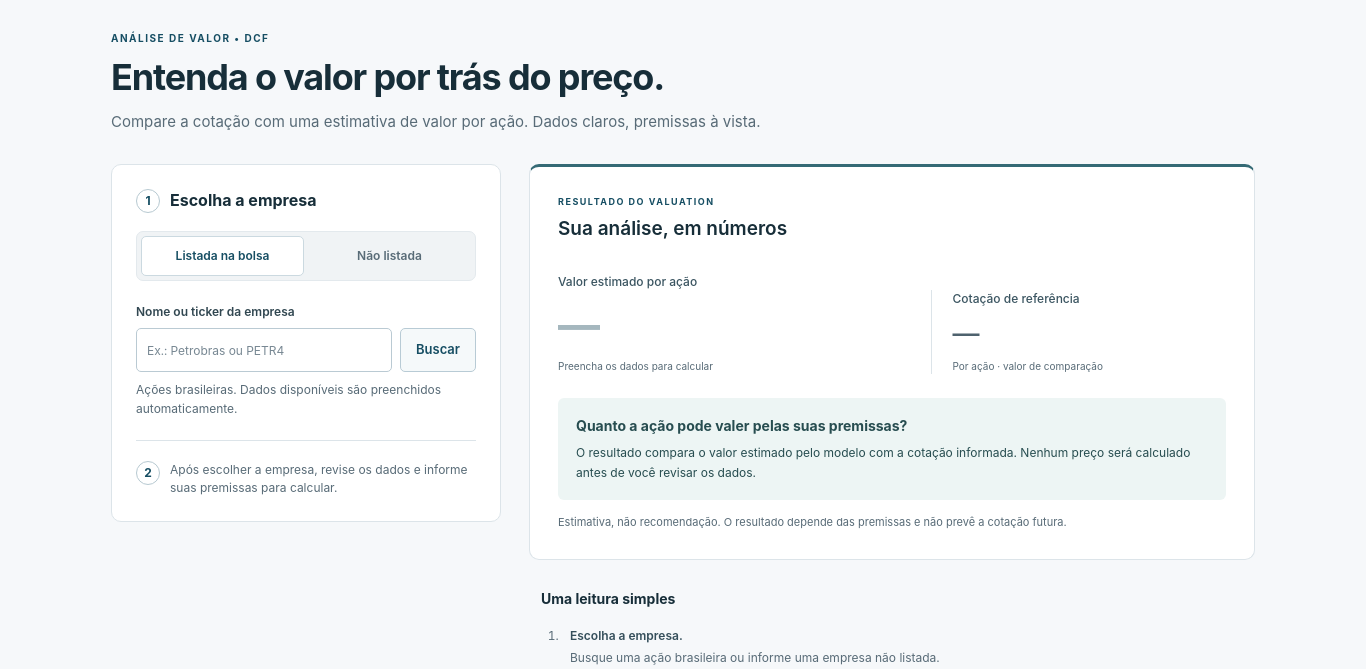
fluxos da interface › impede cálculo incompleto sem enviar dados para API
Click the button "Não listada": [390, 256] box [308, 236, 471, 276]
(page scrolled)
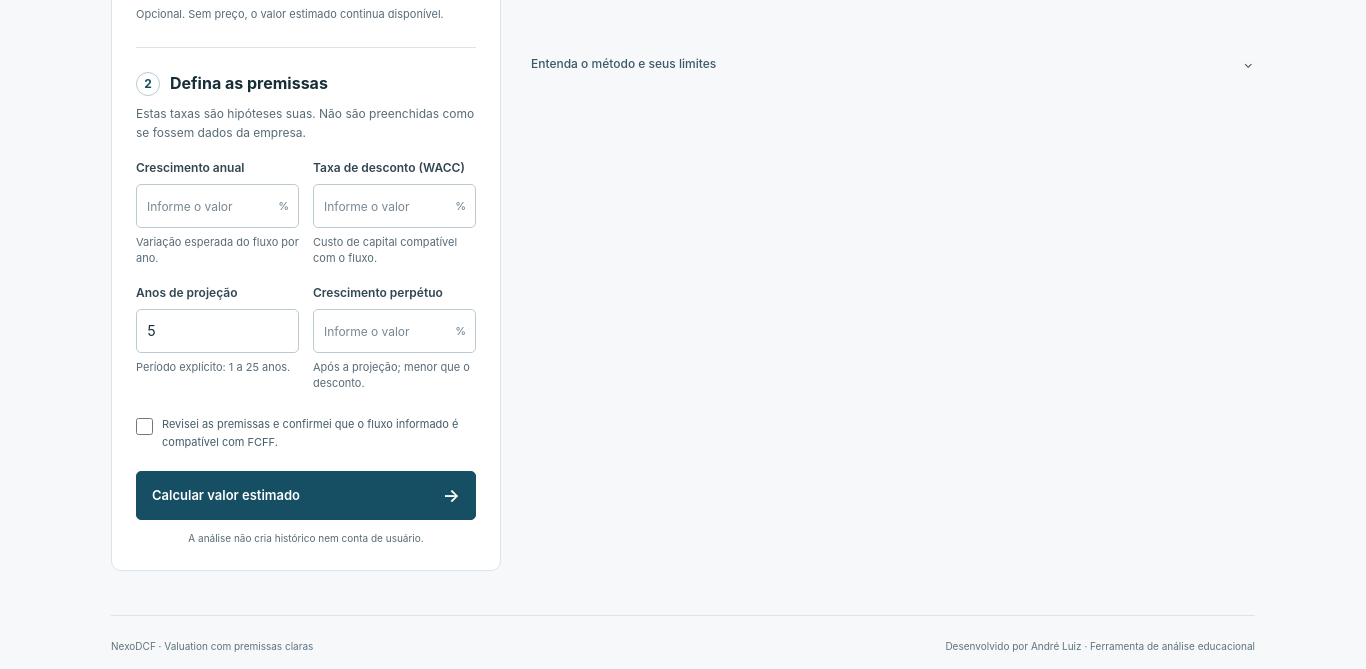
Click the button "Calcular valor estimado →": [226, 495] box [136, 471, 476, 520]
(page scrolled)
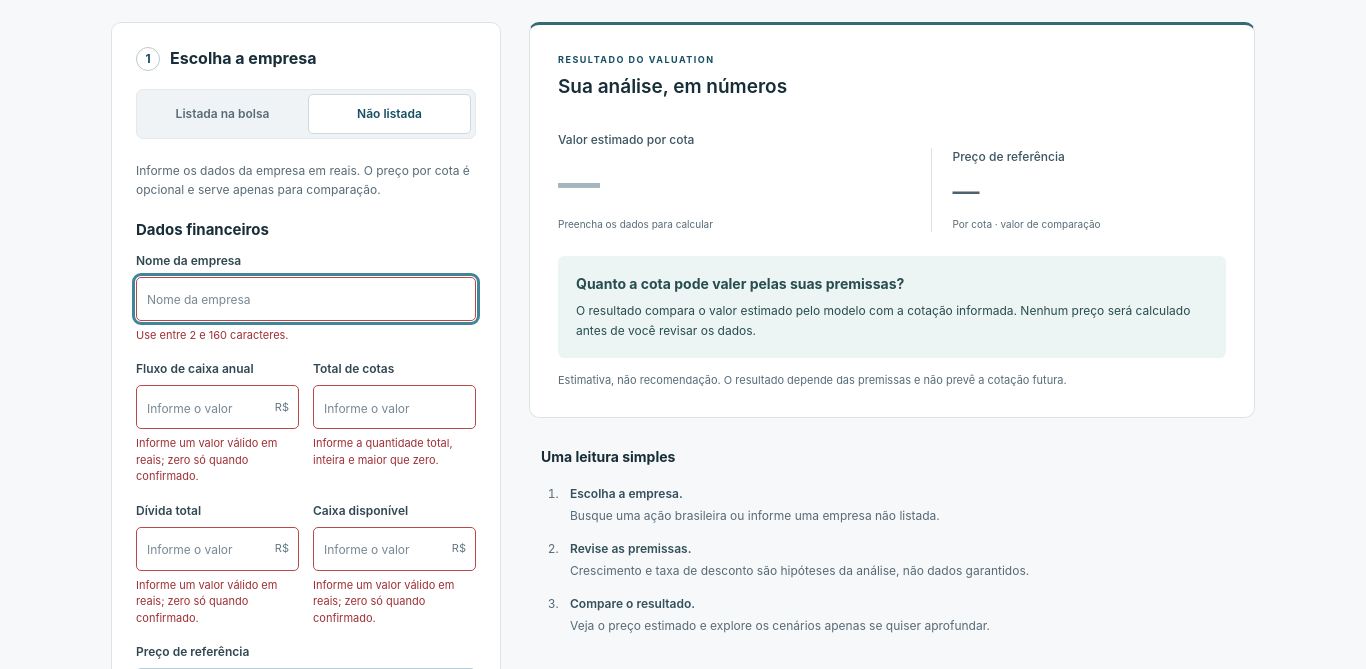
Expected: the text "Use entre 2 e 160 caracteres." is shown, [136, 328, 288, 342]
